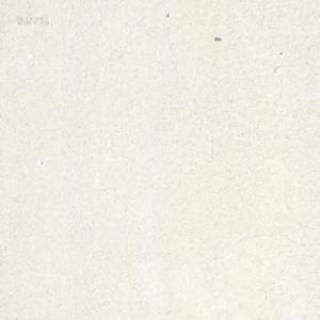Nailtrack_idkeyframe: (214, 34, 221, 40)
